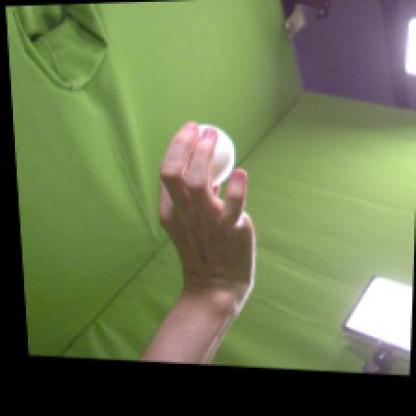Hand: (158, 122, 254, 304)
